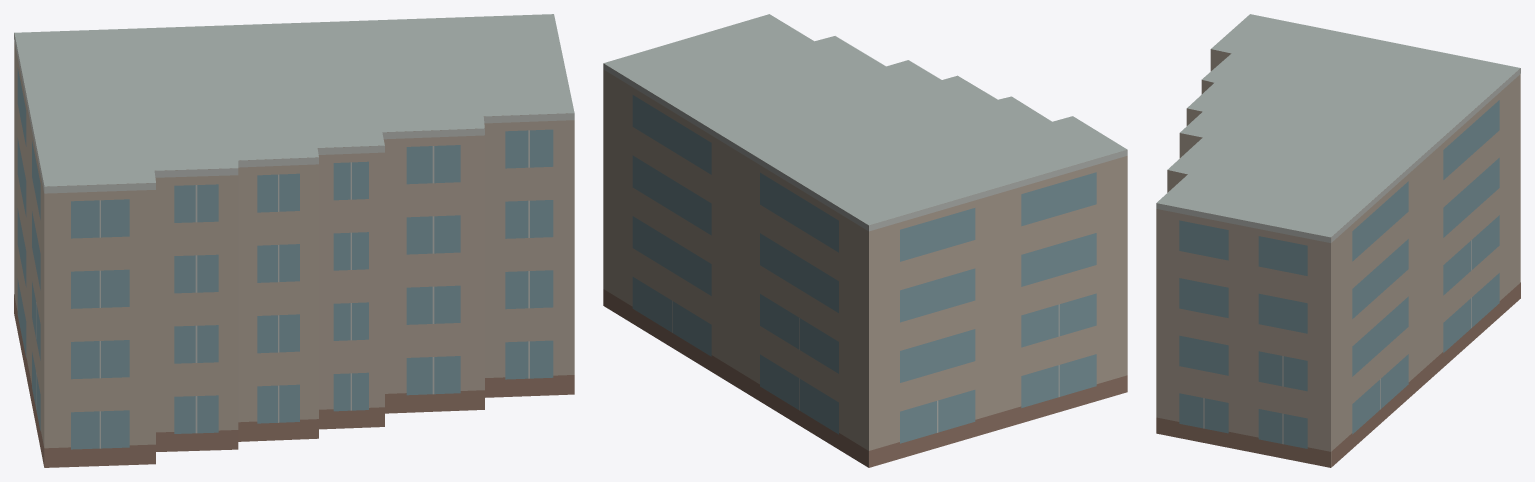
File: survey-upis-32826794.glb
3 views of the same model, side by side, from view 1: azimuth 30°, elevation 25°; view 2: azimuth 150°, elevation 25°; view 3: azimuth 270°, elevation 25° (orthographic). The views are drawn at different scales.
Parts seen in each view (by area): view 1: survey-upis-32826794.tmp; view 2: survey-upis-32826794.tmp; view 3: survey-upis-32826794.tmp.
Boxes of the visible parts, <box> form: survey-upis-32826794.tmp: <box>14,14,574,467</box>; survey-upis-32826794.tmp: <box>603,14,1127,467</box>; survey-upis-32826794.tmp: <box>1156,14,1520,467</box>.
Bounding box in the file's own units: 20.28 × 9.75 × 13.99.
